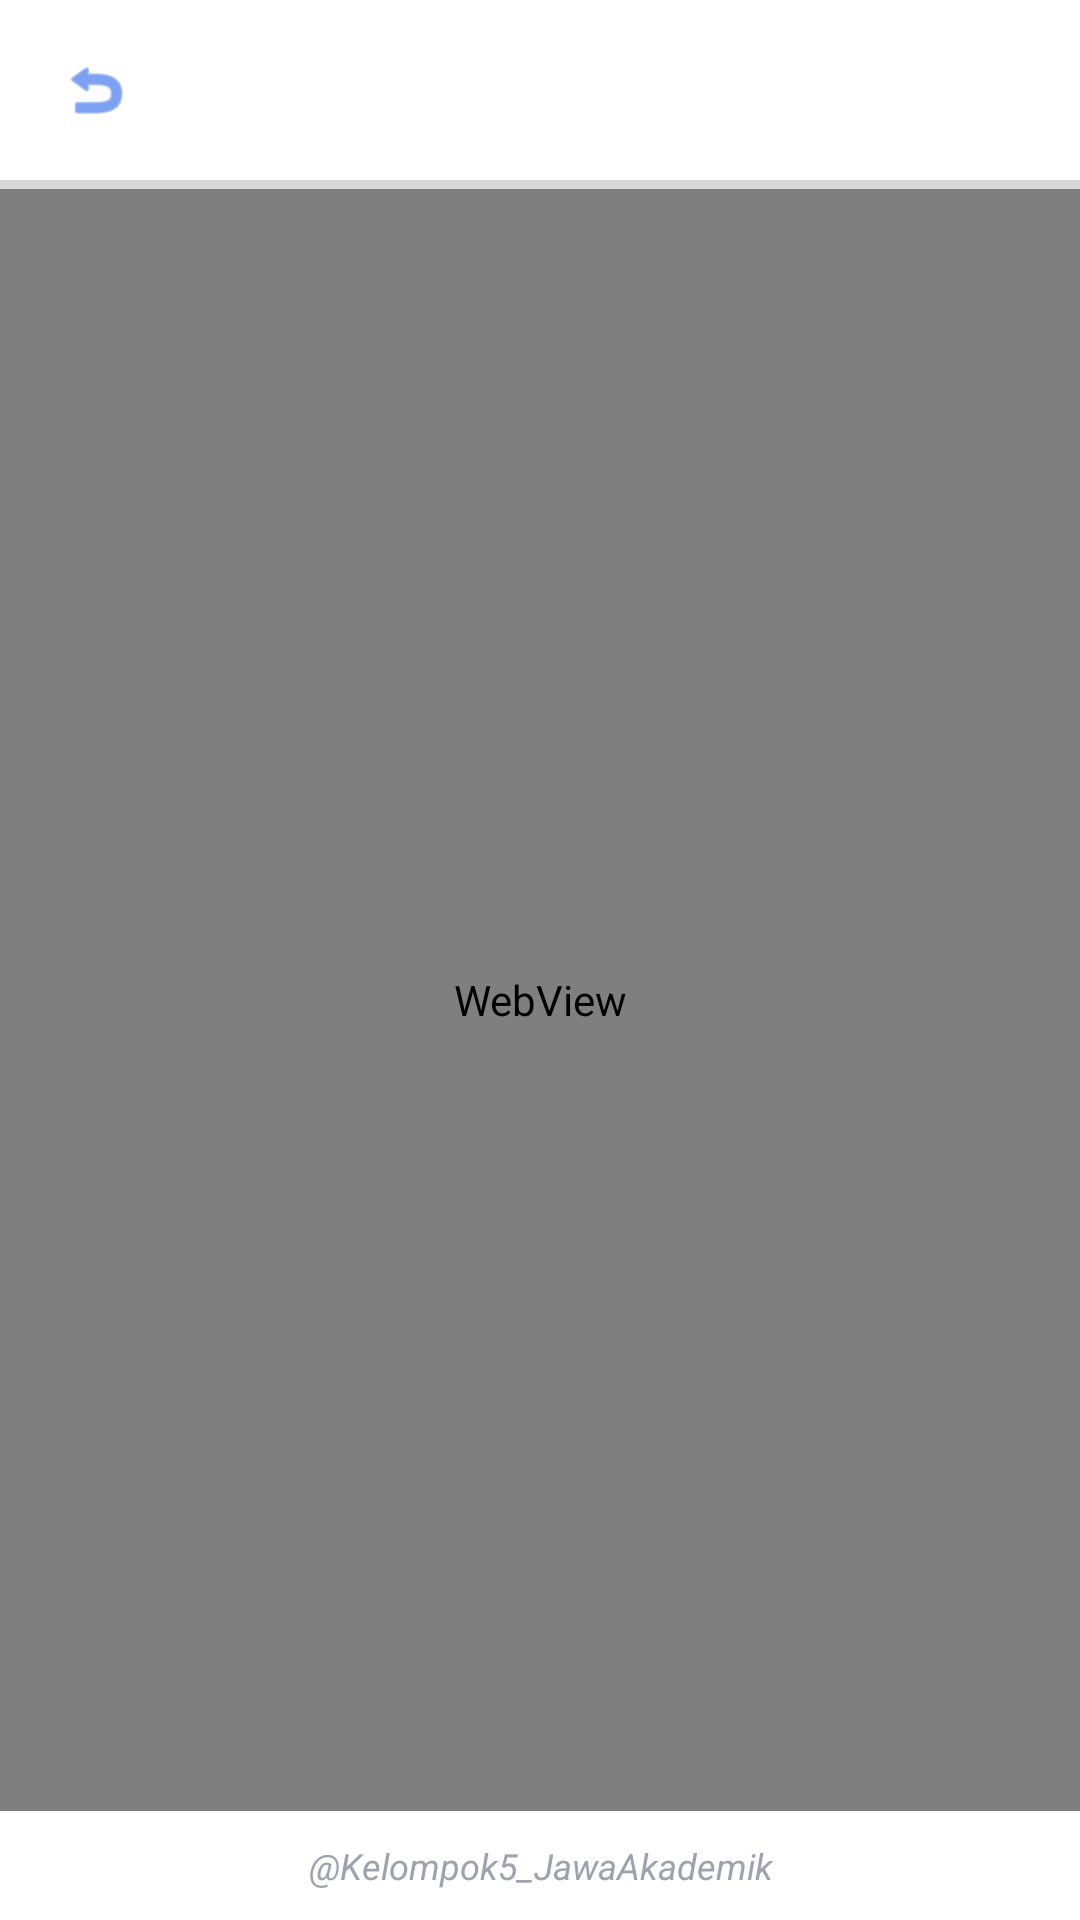

Icons on this 1080w x 1920h Android screen, each with the point to tap as point (x, y):
revert: point (97, 90)
